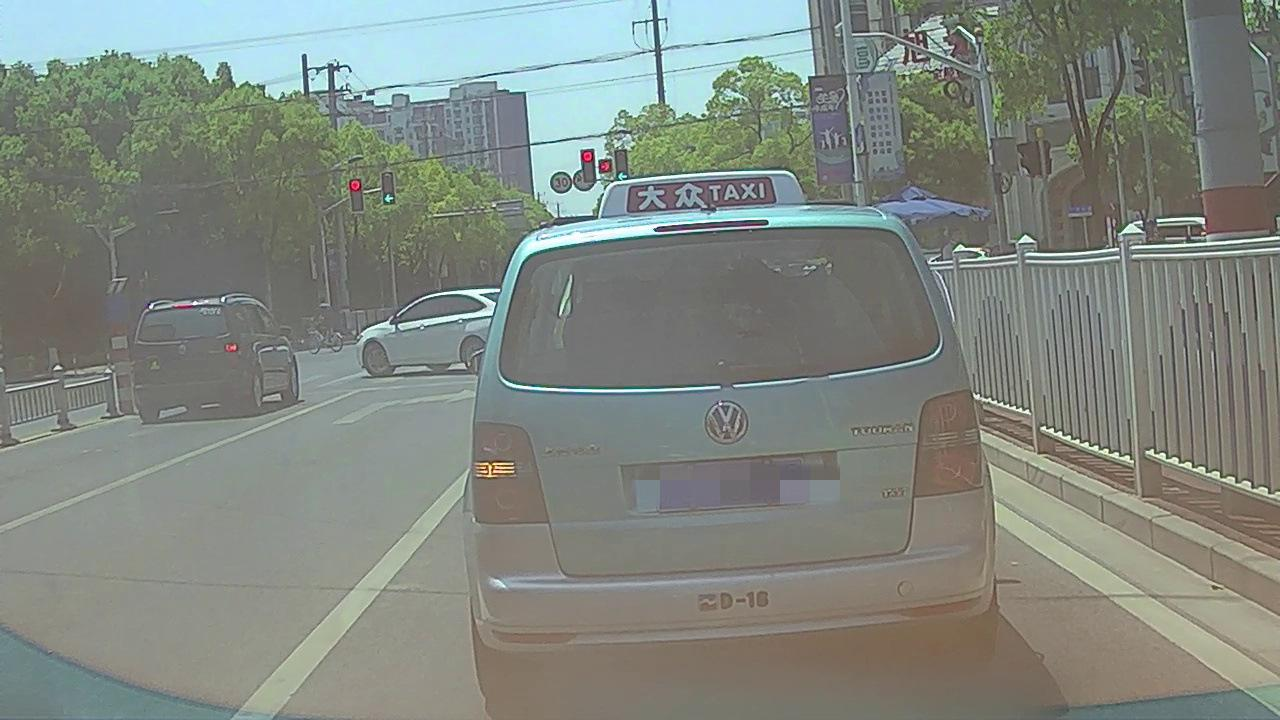traffic_light: (581, 150, 595, 183), (381, 173, 395, 205), (615, 149, 628, 181), (350, 179, 362, 212), (600, 159, 612, 172)
